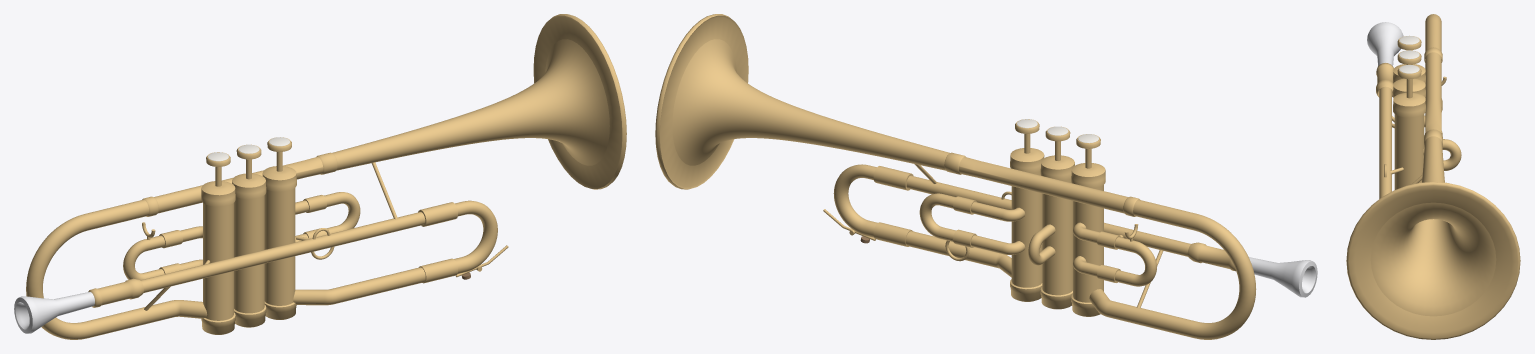
The model's file is trumpet.glb.
The picture shows the model from 3 angles, left to right: view 1: azimuth 30°, elevation 25°; view 2: azimuth 150°, elevation 25°; view 3: azimuth 270°, elevation 25°; orthographic projection. The views are drawn at different scales.
Visible parts, largest first — view 1: Trumpet_Body, Trumpet_Bell, Valve_1, Valve_3; view 2: Trumpet_Bell, Trumpet_Body; view 3: Trumpet_Bell, Trumpet_Body, Valve_3, Valve_2, Valve_1.
Boxes of the visible parts, x1,y1,x2,y2 form: Trumpet_Body: (14, 162, 508, 334); Trumpet_Bell: (26, 14, 626, 339); Valve_1: (206, 152, 230, 186); Valve_3: (267, 137, 291, 171); Trumpet_Bell: (655, 14, 1256, 339); Trumpet_Body: (823, 148, 1317, 316); Trumpet_Bell: (1346, 14, 1520, 339); Trumpet_Body: (1367, 22, 1461, 198); Valve_3: (1397, 64, 1421, 98); Valve_2: (1397, 50, 1421, 64); Valve_1: (1397, 35, 1421, 50).
Bounding box in the file's own units: 0.4773 × 0.1631 × 0.1272.
